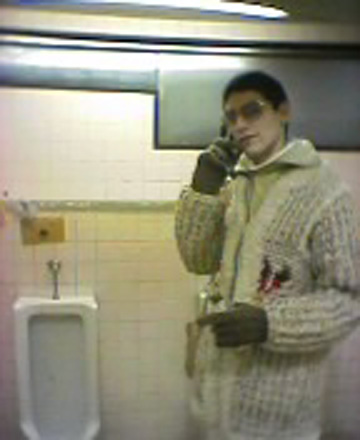person: (174, 70, 360, 440)
